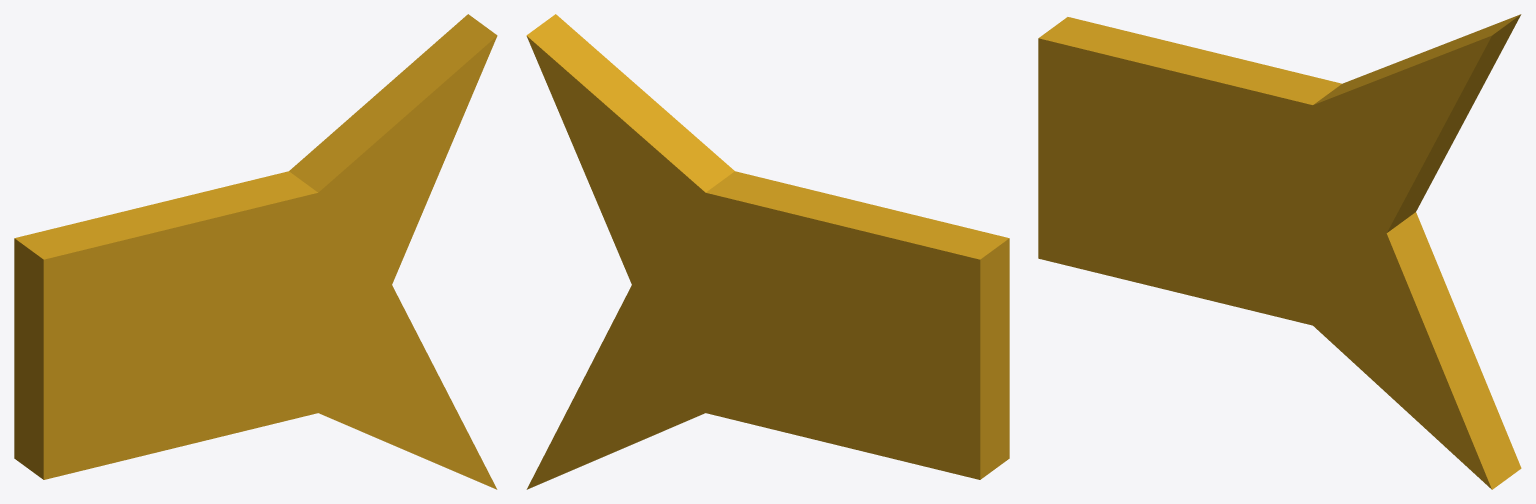
The model's file is Prop_Jungle_Temple_Ornament_Icon_Plaque_Small_Gold_10.FBX.
The picture shows the model from 3 angles, left to right: view 1: azimuth 30°, elevation 25°; view 2: azimuth 150°, elevation 25°; view 3: azimuth 330°, elevation 25°; orthographic projection.
Parts seen in each view (by area): view 1: Prop_Jungle_Temple_Ornament_Icon_Plaque_Small_Gold_10; view 2: Prop_Jungle_Temple_Ornament_Icon_Plaque_Small_Gold_10; view 3: Prop_Jungle_Temple_Ornament_Icon_Plaque_Small_Gold_10.
Part boxes in pixels (x1,y1,x2,y2): Prop_Jungle_Temple_Ornament_Icon_Plaque_Small_Gold_10: (14, 14, 497, 489); Prop_Jungle_Temple_Ornament_Icon_Plaque_Small_Gold_10: (526, 14, 1009, 489); Prop_Jungle_Temple_Ornament_Icon_Plaque_Small_Gold_10: (1038, 14, 1521, 489).
Bounding box in the file's own units: 396 × 379 × 44.43.
